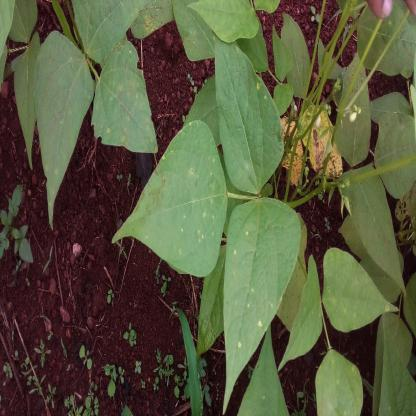Beans_Rust: (224, 198, 306, 410), (116, 121, 225, 276), (38, 28, 94, 228), (214, 34, 284, 188), (96, 37, 159, 156)
